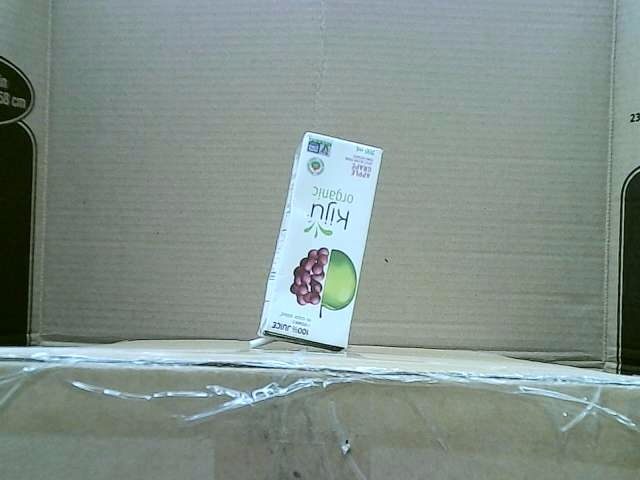JuiceBox: (248, 131, 384, 349)
